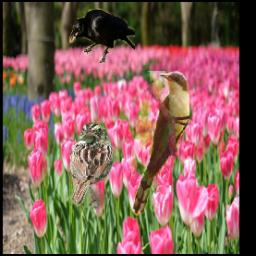Crow: (68, 8, 135, 63)
Cuckoo: (132, 71, 190, 215)
Sparrow: (71, 123, 115, 211)
